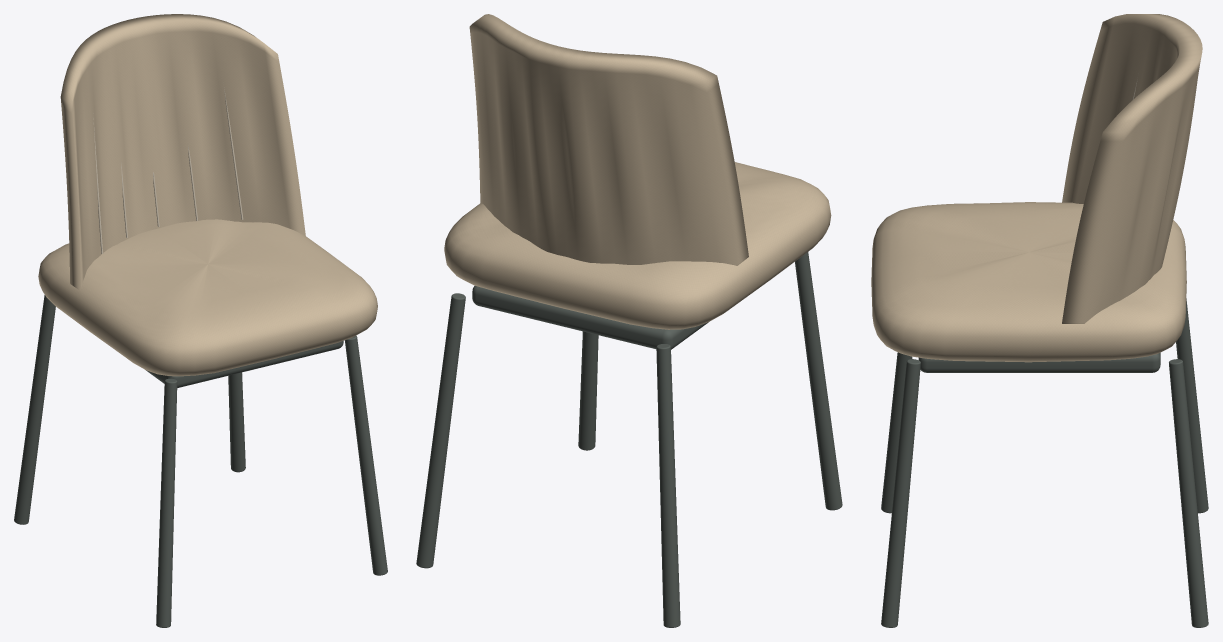
The picture shows the model from 3 angles, left to right: view 1: azimuth 30°, elevation 25°; view 2: azimuth 150°, elevation 25°; view 3: azimuth 270°, elevation 25°; orthographic projection. The views are drawn at different scales.
Visible parts, largest first — view 1: cushion_back, seat, leg_-1_1, leg_1_1, leg_-1_-1, leg_1_-1, seat_support; view 2: cushion_back, seat, leg_-1_-1, leg_1_-1, leg_-1_1, seat_support, leg_1_1; view 3: seat, cushion_back, leg_1_1, leg_1_-1, seat_support, leg_-1_-1, leg_-1_1.
Part boxes in pixels (x1=…): cushion_back: x1=60, y1=14, x2=305, y2=290; seat: x1=38, y1=219, x2=377, y2=376; leg_-1_1: x1=156, y1=378, x2=177, y2=627; leg_1_1: x1=345, y1=335, x2=387, y2=575; leg_-1_-1: x1=14, y1=295, x2=55, y2=524; leg_1_-1: x1=228, y1=372, x2=245, y2=472; seat_support: x1=146, y1=341, x2=343, y2=387; cushion_back: x1=469, y1=14, x2=748, y2=265; seat: x1=444, y1=162, x2=831, y2=329; leg_-1_-1: x1=656, y1=344, x2=680, y2=627; leg_1_-1: x1=416, y1=293, x2=465, y2=568; leg_-1_1: x1=795, y1=252, x2=842, y2=510; seat_support: x1=472, y1=286, x2=708, y2=349; leg_1_1: x1=578, y1=331, x2=598, y2=450; seat: x1=871, y1=202, x2=1186, y2=362; cushion_back: x1=1062, y1=14, x2=1202, y2=323; leg_1_1: x1=881, y1=359, x2=920, y2=627; leg_1_-1: x1=1169, y1=359, x2=1208, y2=627; seat_support: x1=918, y1=352, x2=1160, y2=372; leg_-1_-1: x1=1176, y1=298, x2=1208, y2=513; leg_-1_1: x1=881, y1=352, x2=912, y2=513.
Bounding box in the file's own units: 0.45 × 0.85 × 0.5.
Materials: 3 (1 with a texture image).
